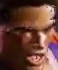kevin: (11, 8, 55, 62)
